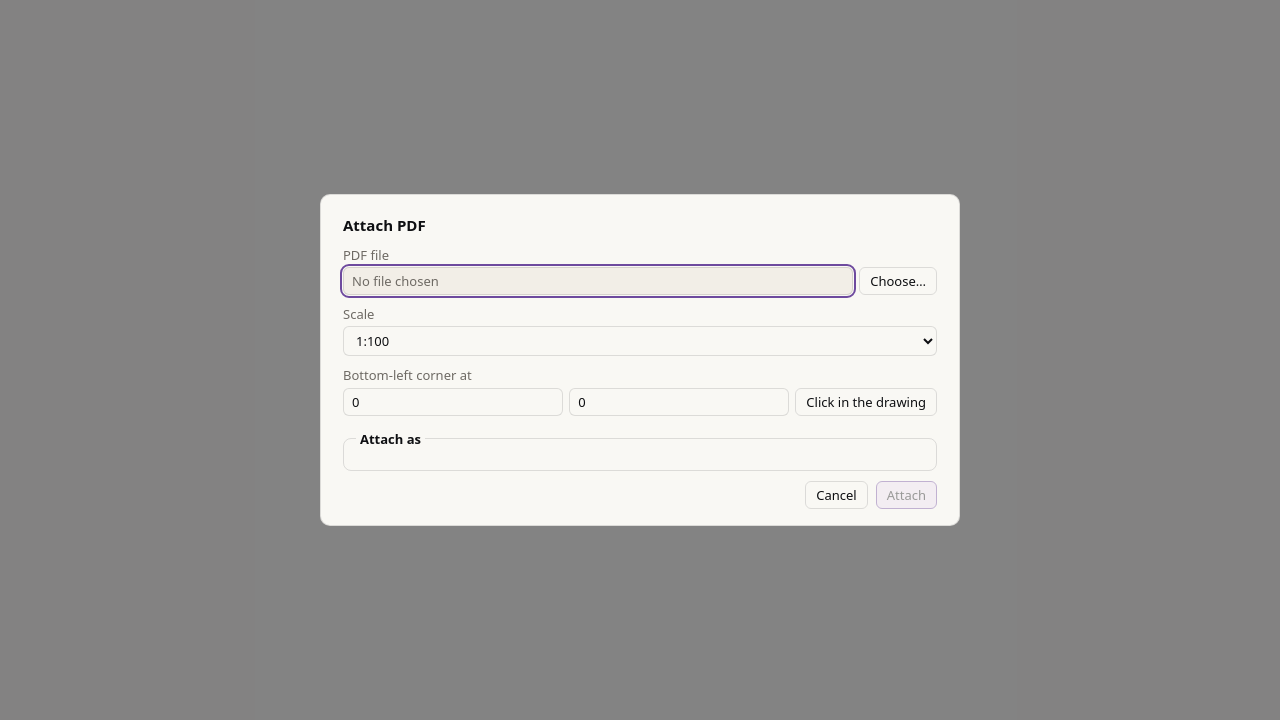
a custom scale is drawing units per point, and a failure stays in the dialog
Step 1. Click the button "Choose…" → (898, 281), box [859,267,937,295]
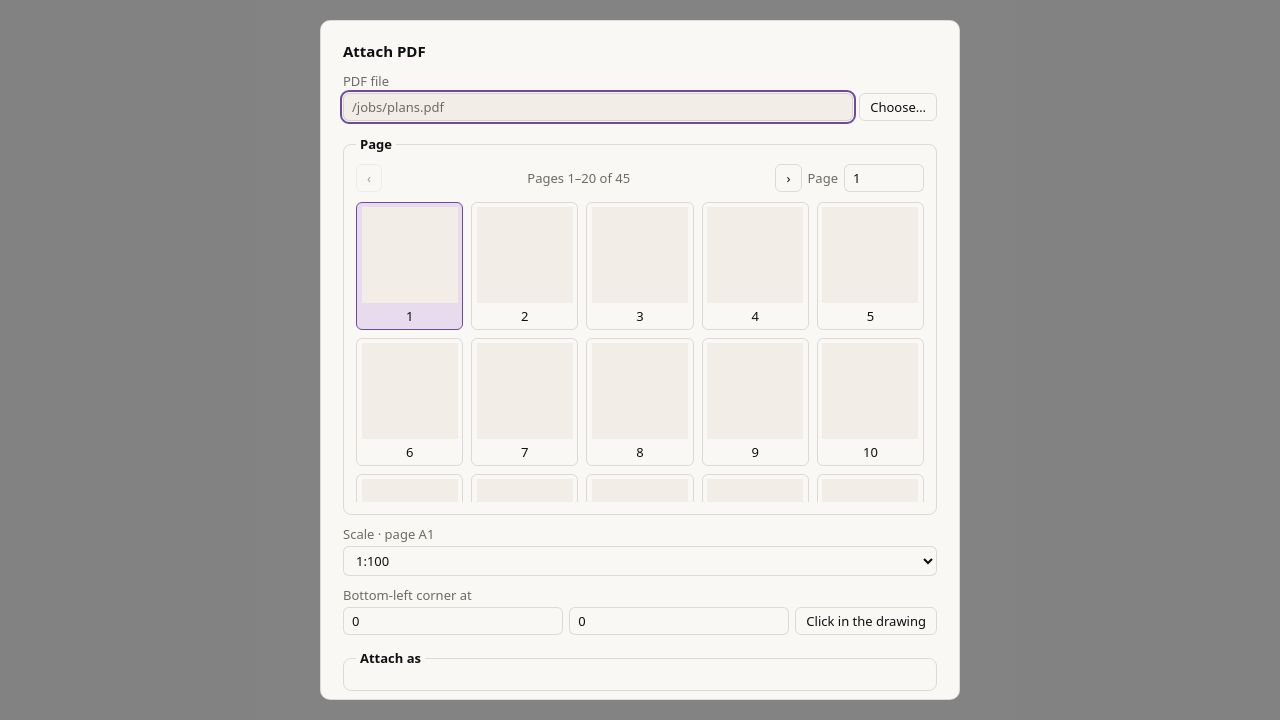
Check: the text "Pages 1–20 of 45" is shown, box [527,169,630,187]
Step 2. Select "Custom" in the dropdown → (640, 561), box [343,546,937,576]
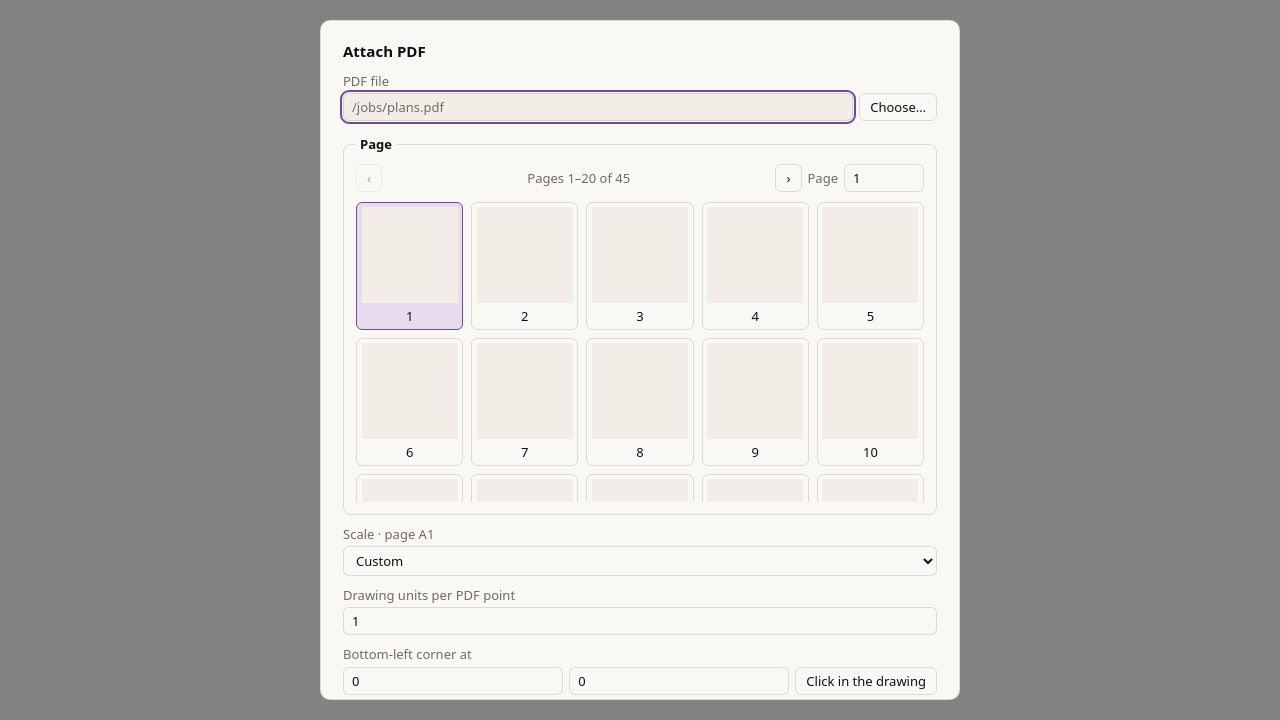
Step 3. Replace the text in the number field labelled "Drawing units per PDF point" with "0.5" → (640, 621), box [343,607,937,635]
(page scrolled)
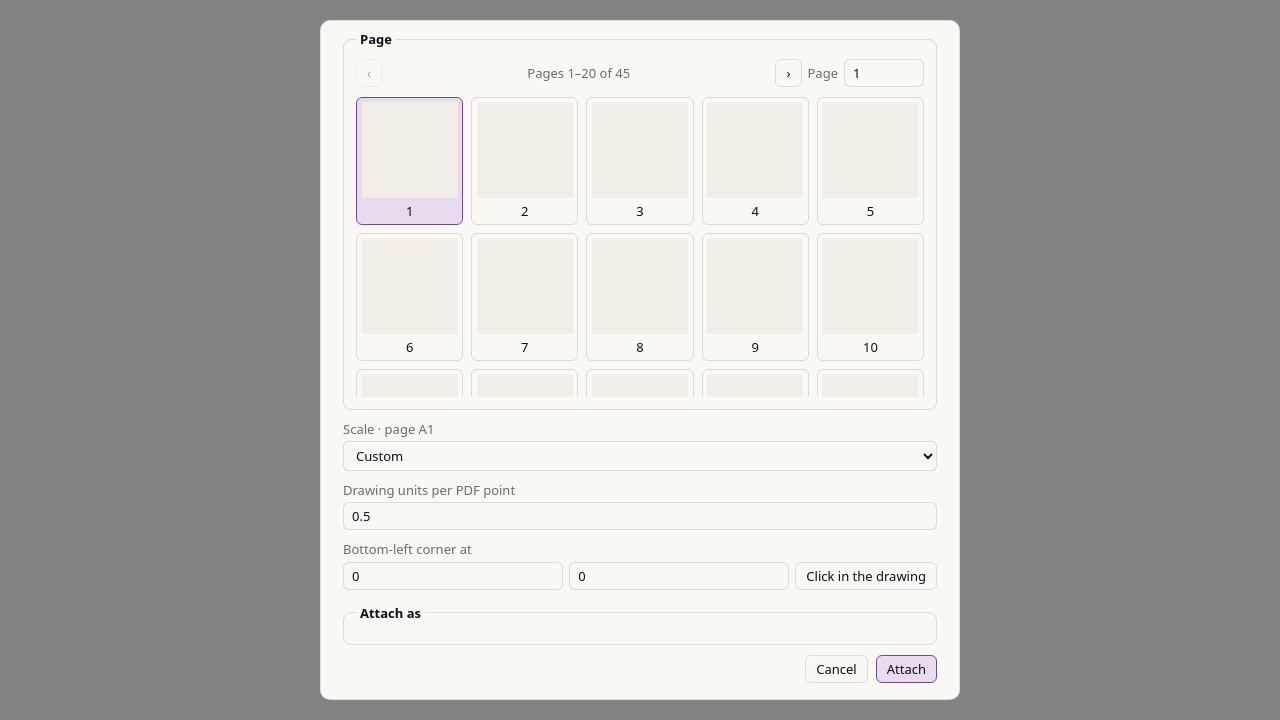
Step 4. Click the button "Attach" → (906, 669), box [876,655,937,683]
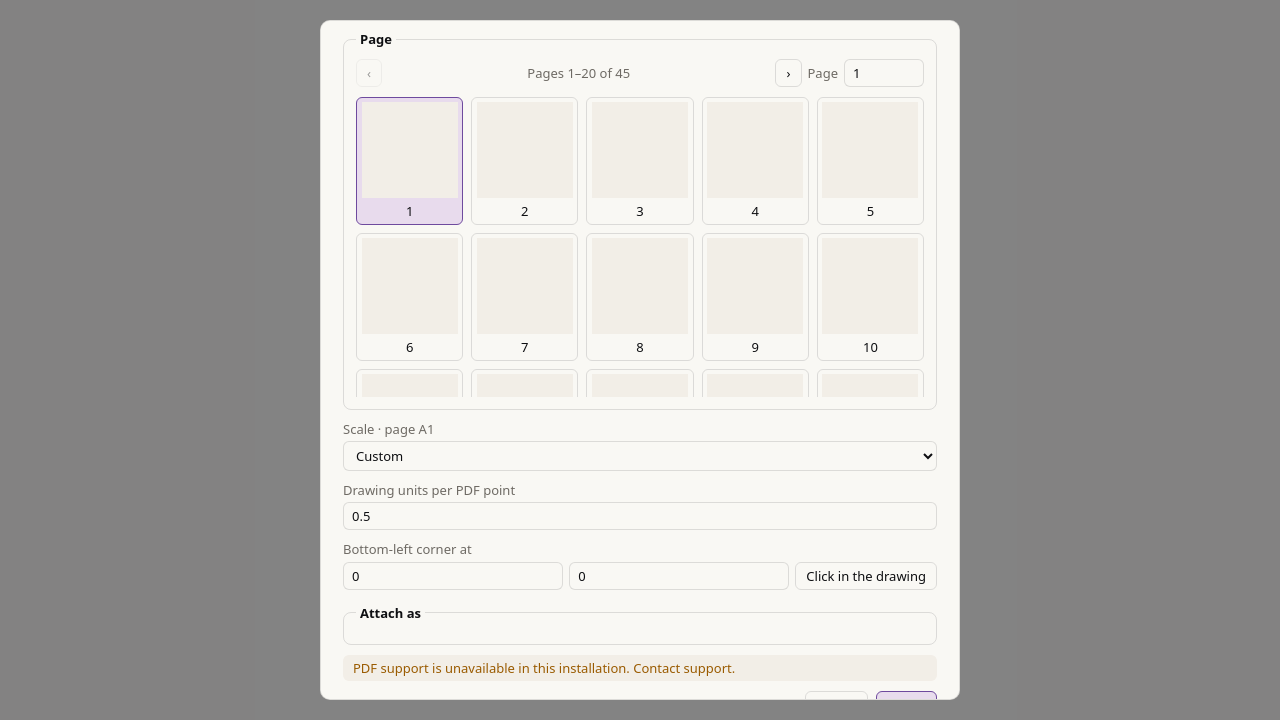
Check: the message reads "PDF support is unavailable in this installation. Contact support.", box [353,659,735,677]
